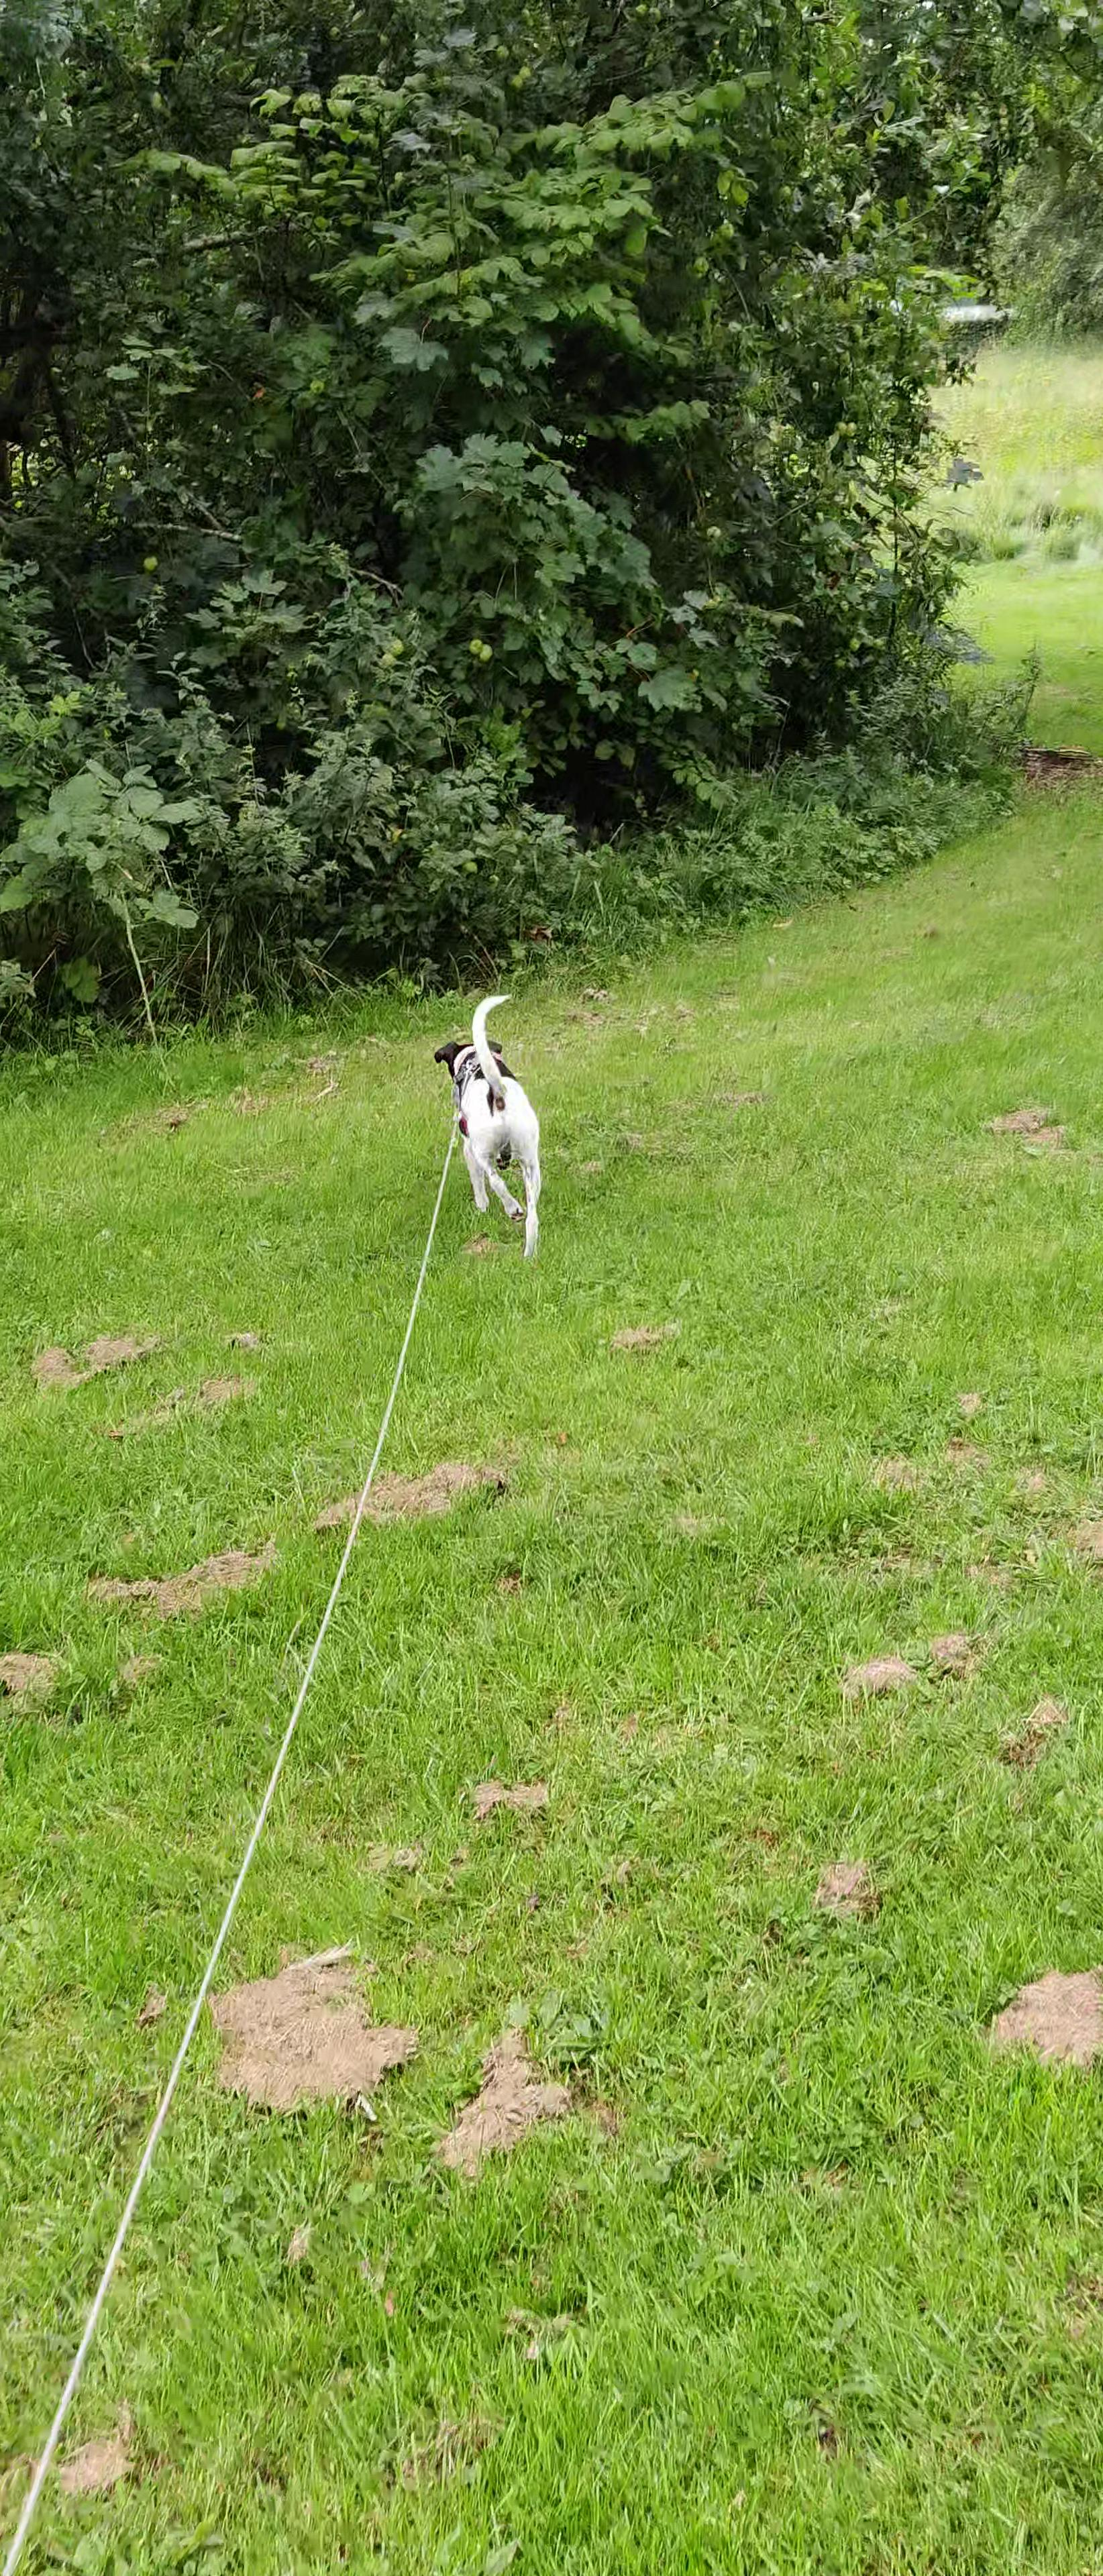Dog: (419, 973, 551, 1276)
